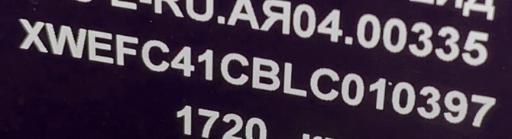letter: (44, 21, 88, 59), (14, 14, 50, 55), (248, 54, 282, 93), (218, 50, 250, 87), (308, 66, 340, 101), (86, 26, 114, 66), (140, 37, 170, 74), (441, 86, 469, 124), (469, 91, 497, 127), (390, 79, 416, 117), (416, 82, 442, 120), (282, 61, 308, 98), (339, 71, 365, 107), (114, 31, 140, 66), (170, 44, 196, 79), (366, 75, 388, 111), (195, 46, 215, 83)
